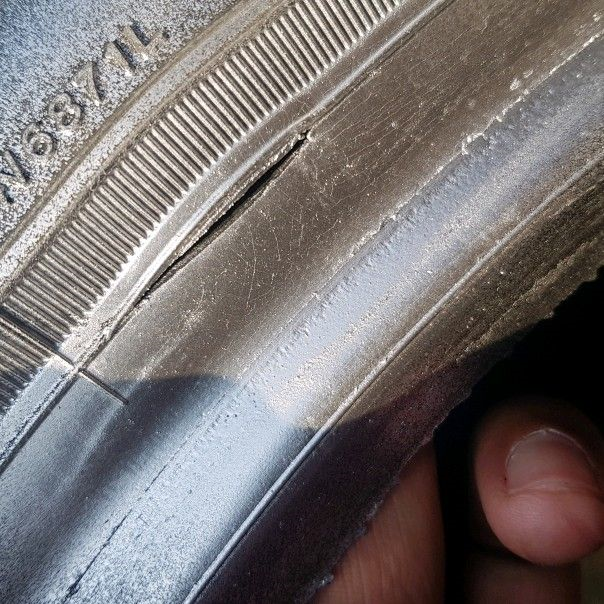cut: (113, 126, 312, 331)
